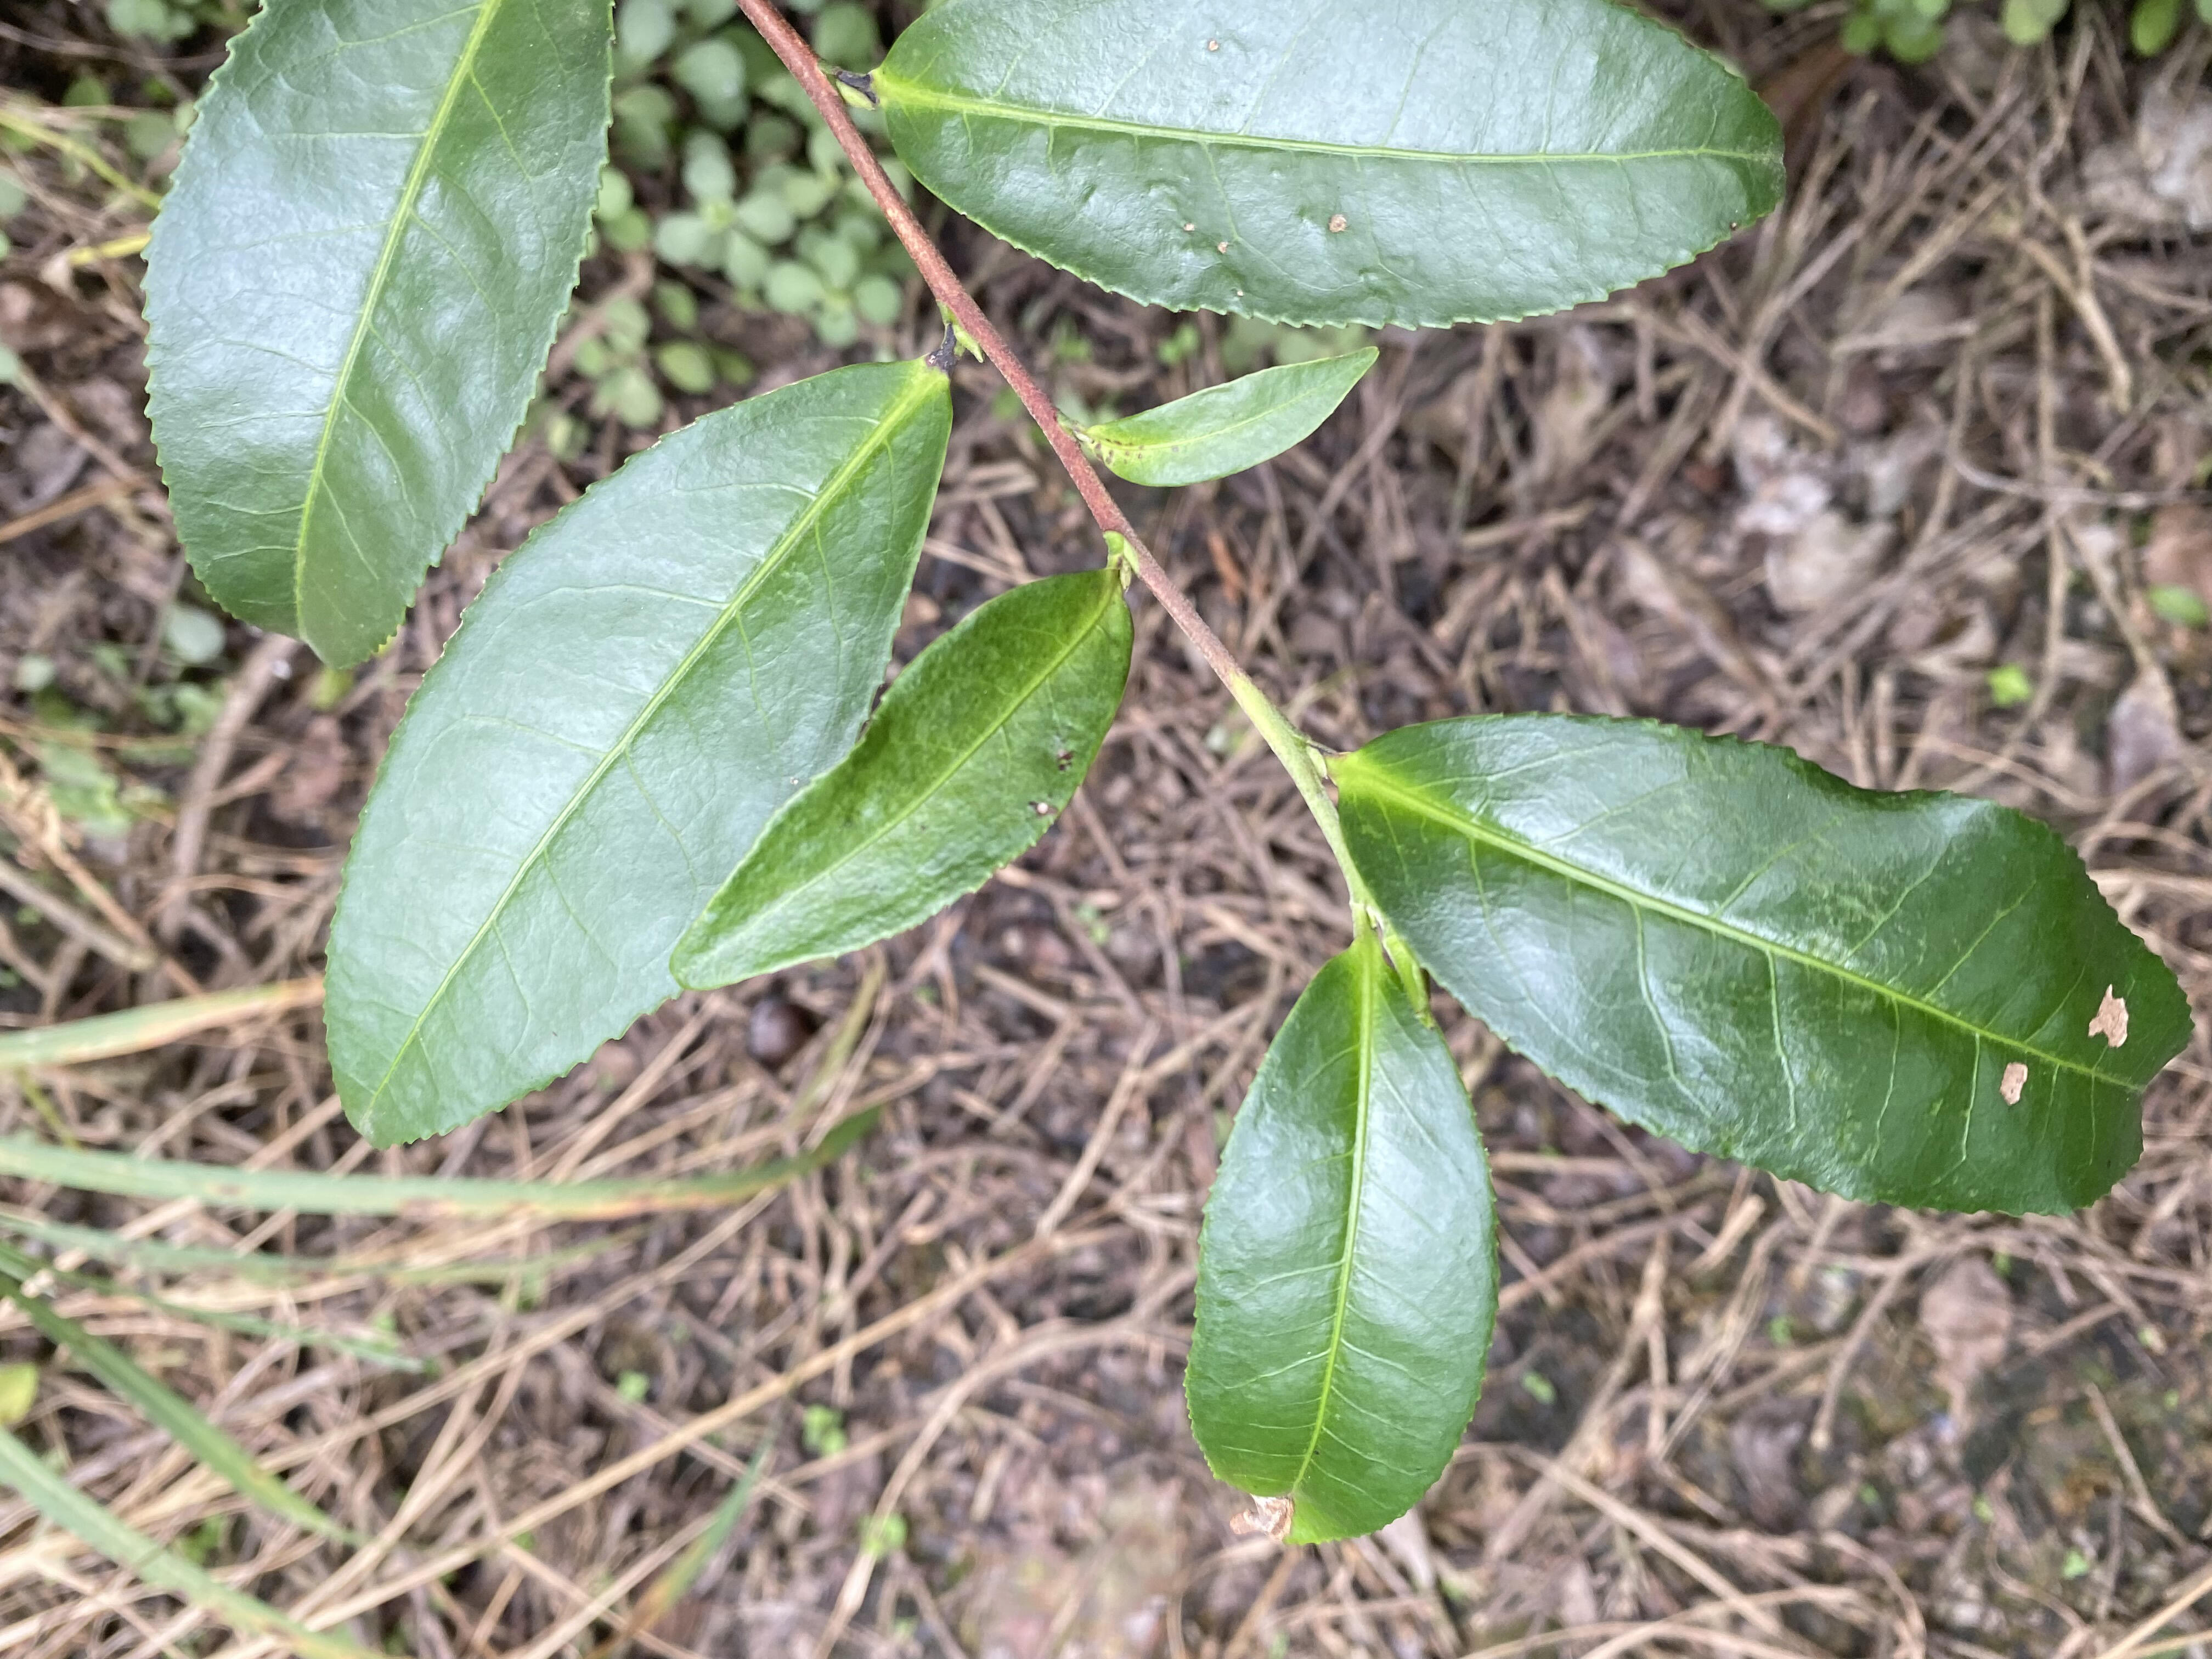healthy: (320, 371, 954, 1155), (136, 3, 620, 680)
tanju_low: (1339, 714, 2196, 1220), (883, 2, 1789, 336), (667, 568, 1137, 993), (1183, 951, 1501, 1551)
